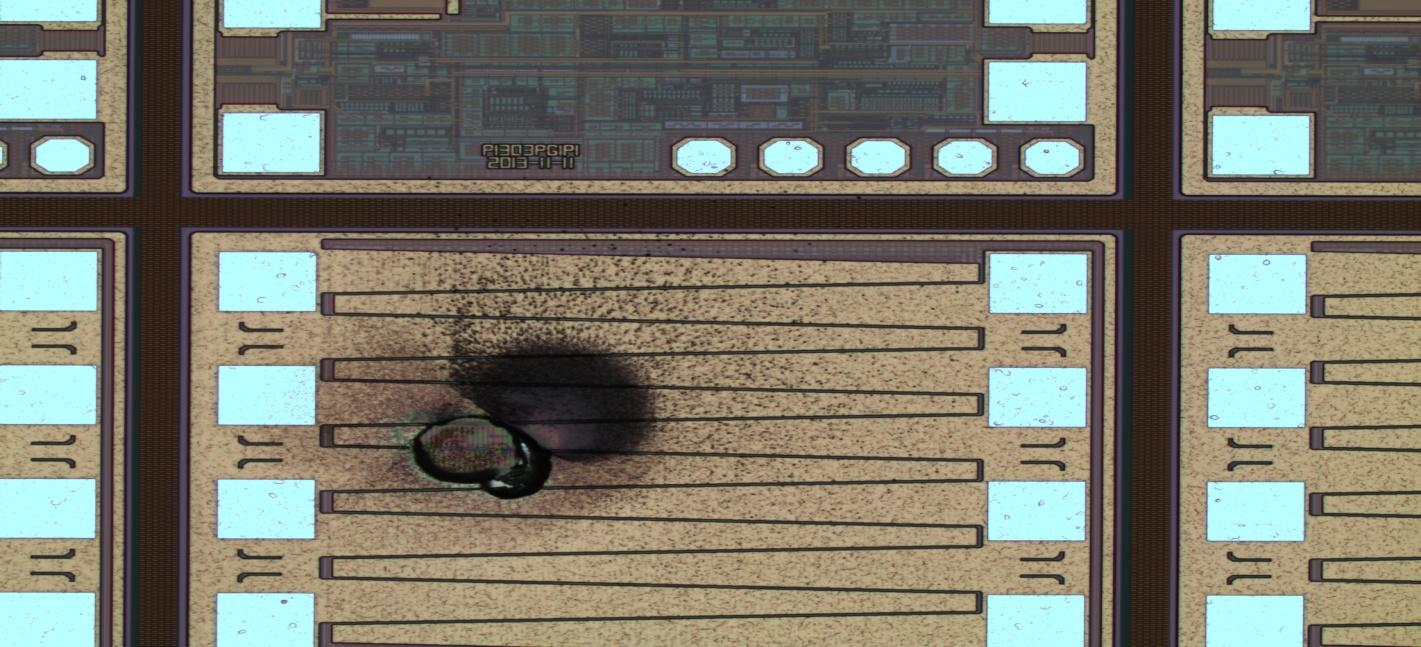PO CONTAMINATION: (258, 216, 852, 634)
